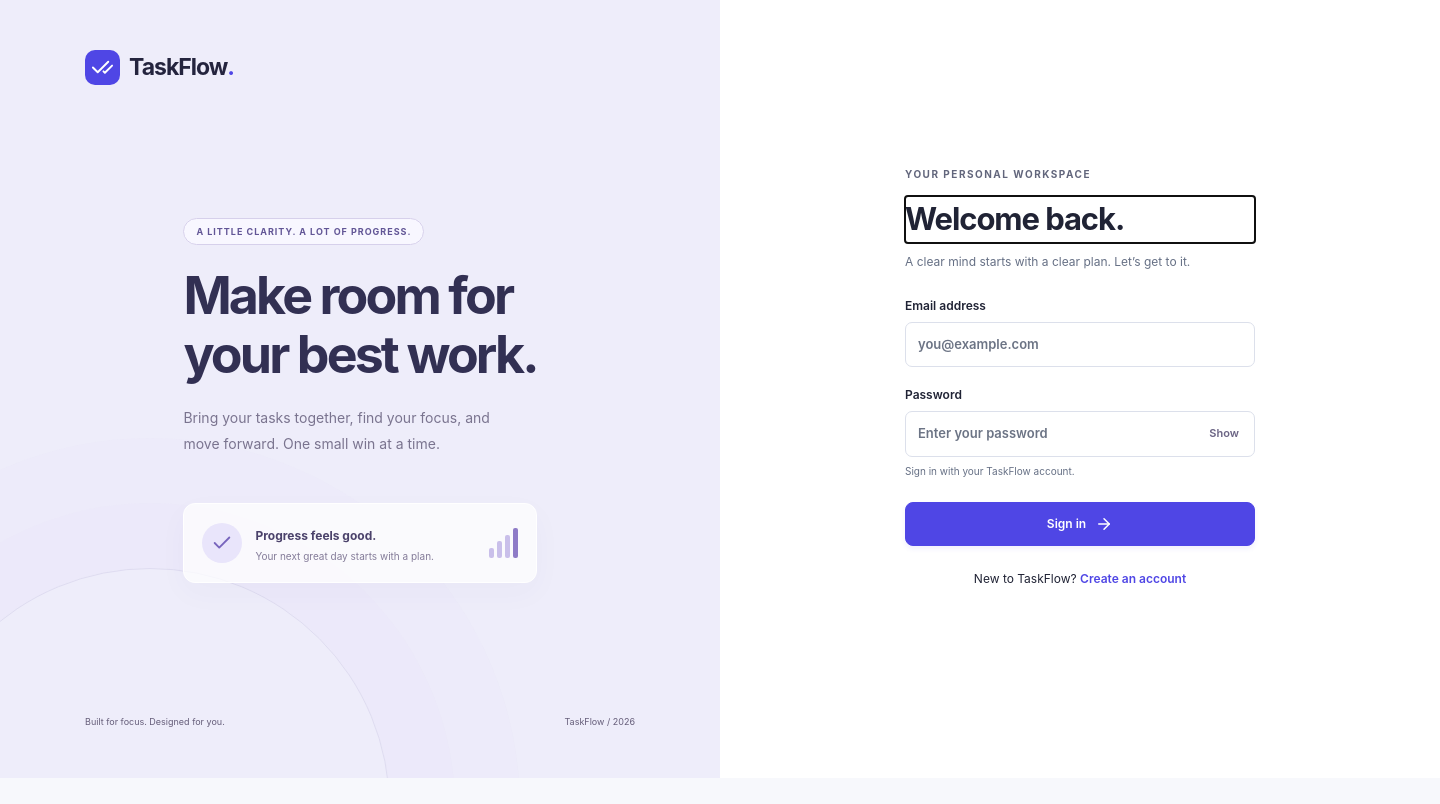
Test: preserves a task after failed deletion and allows a safe retry
Type "demo@taskflow.app" into the field labelled "Email address" at coordinates (1080, 345), box [905,322,1255,367]
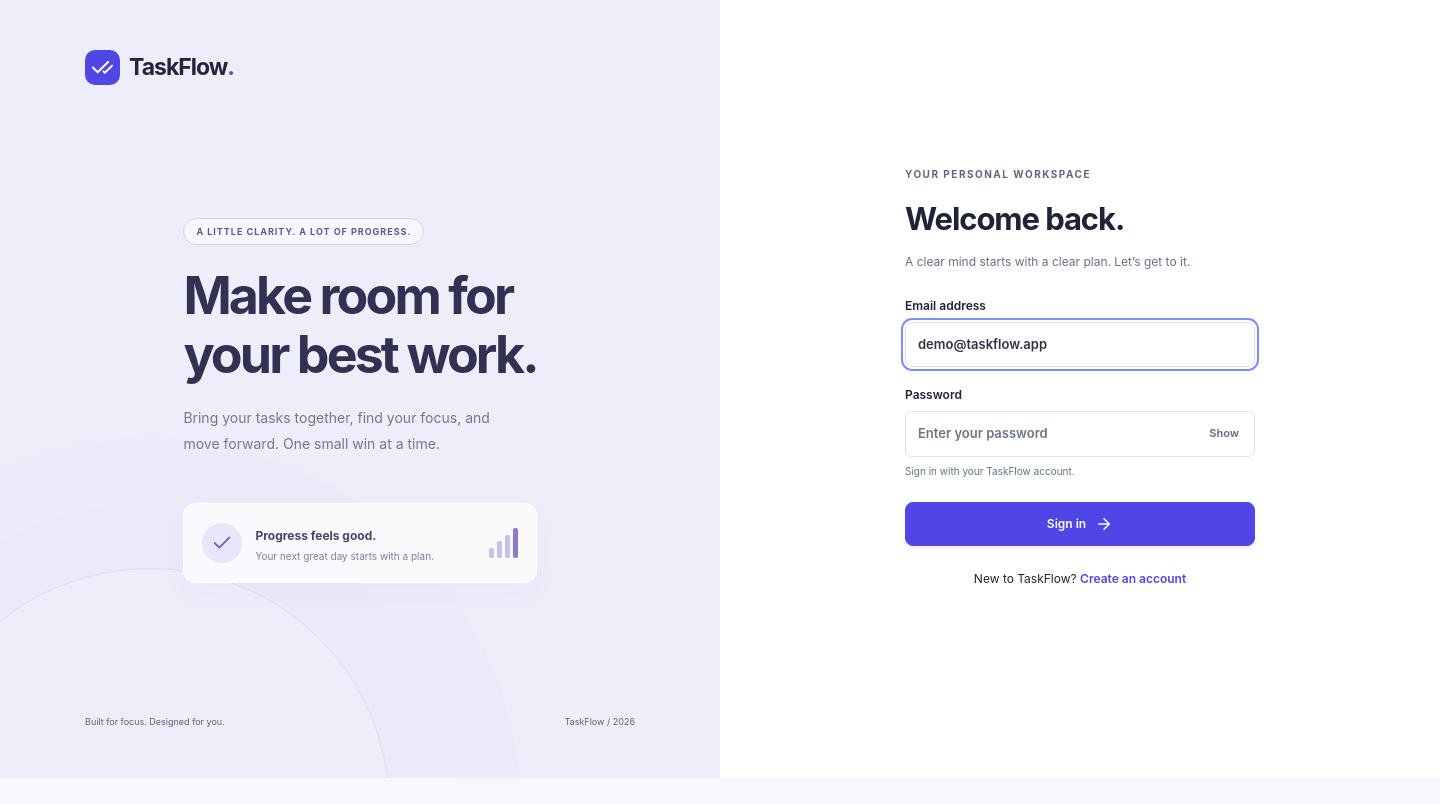
Type "TaskflowDemo!2026" into the password field labelled "Password" at coordinates (1080, 434), box [905,411,1255,457]
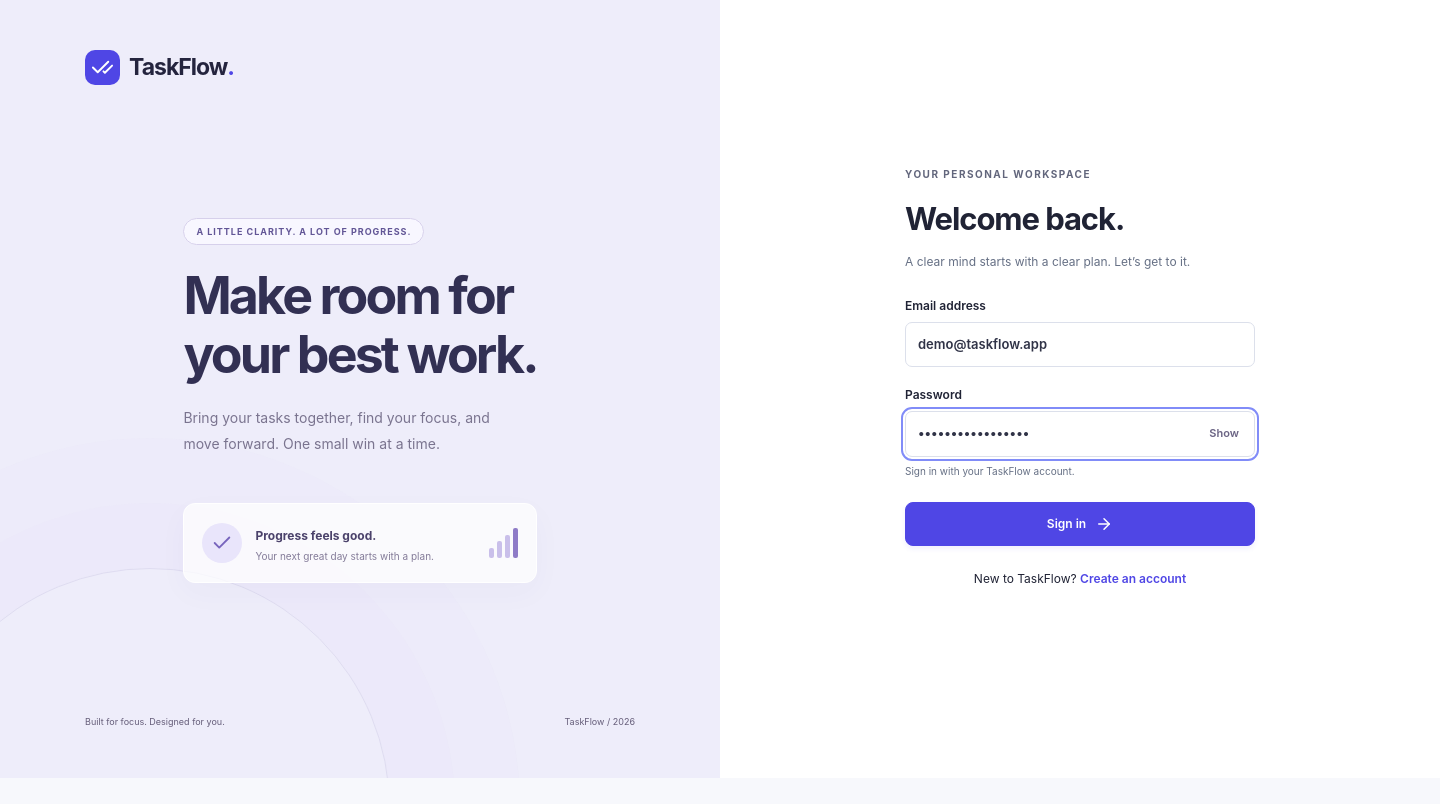
Click the button "Sign in" at coordinates (1080, 524), box [905,502,1255,546]
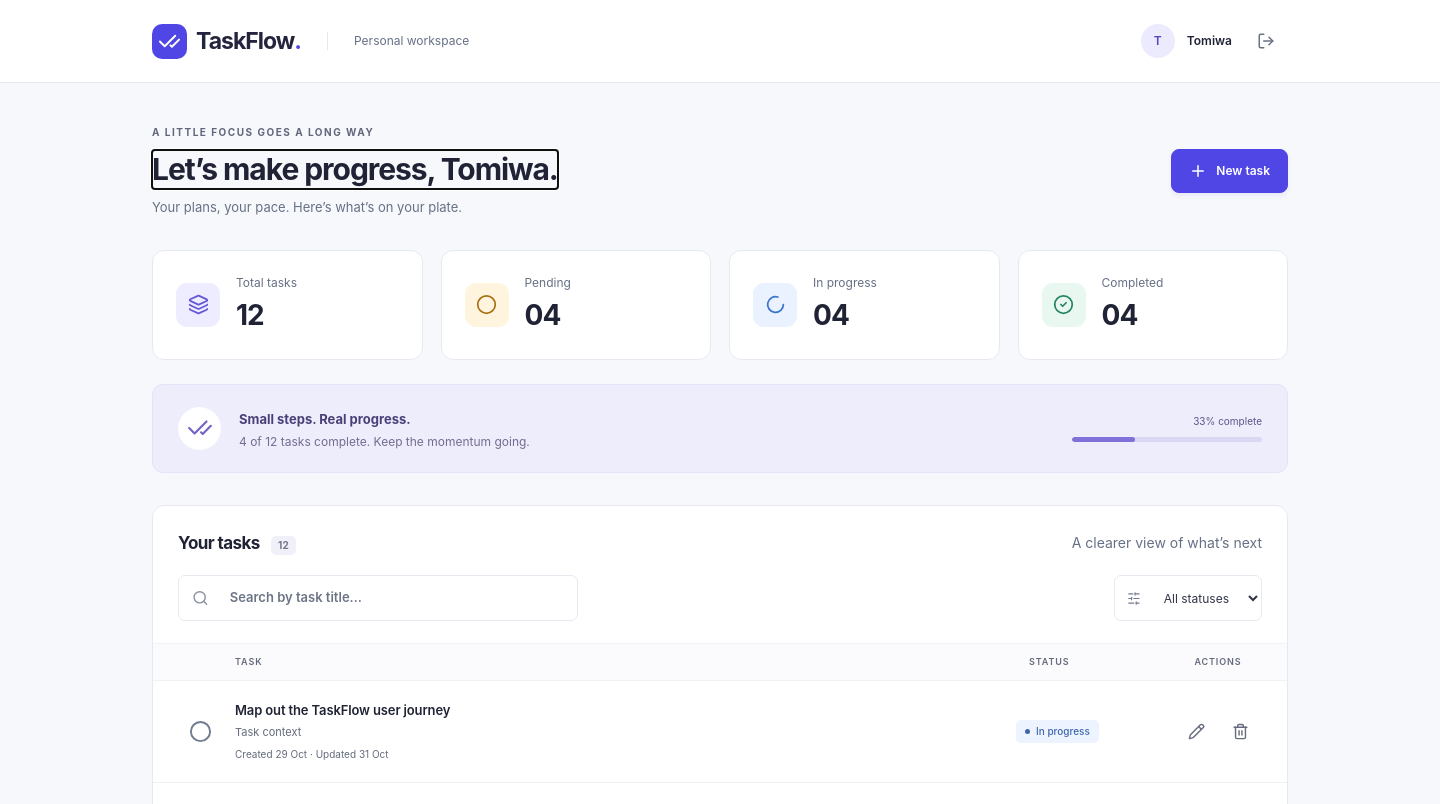
Check: the heading "Let’s make progress, Tomiwa." is shown, box [152,150,558,189]
Click the button named "Delete: Map out the TaskFlow user journey" at coordinates (1240, 731), box [1218,709,1262,753]
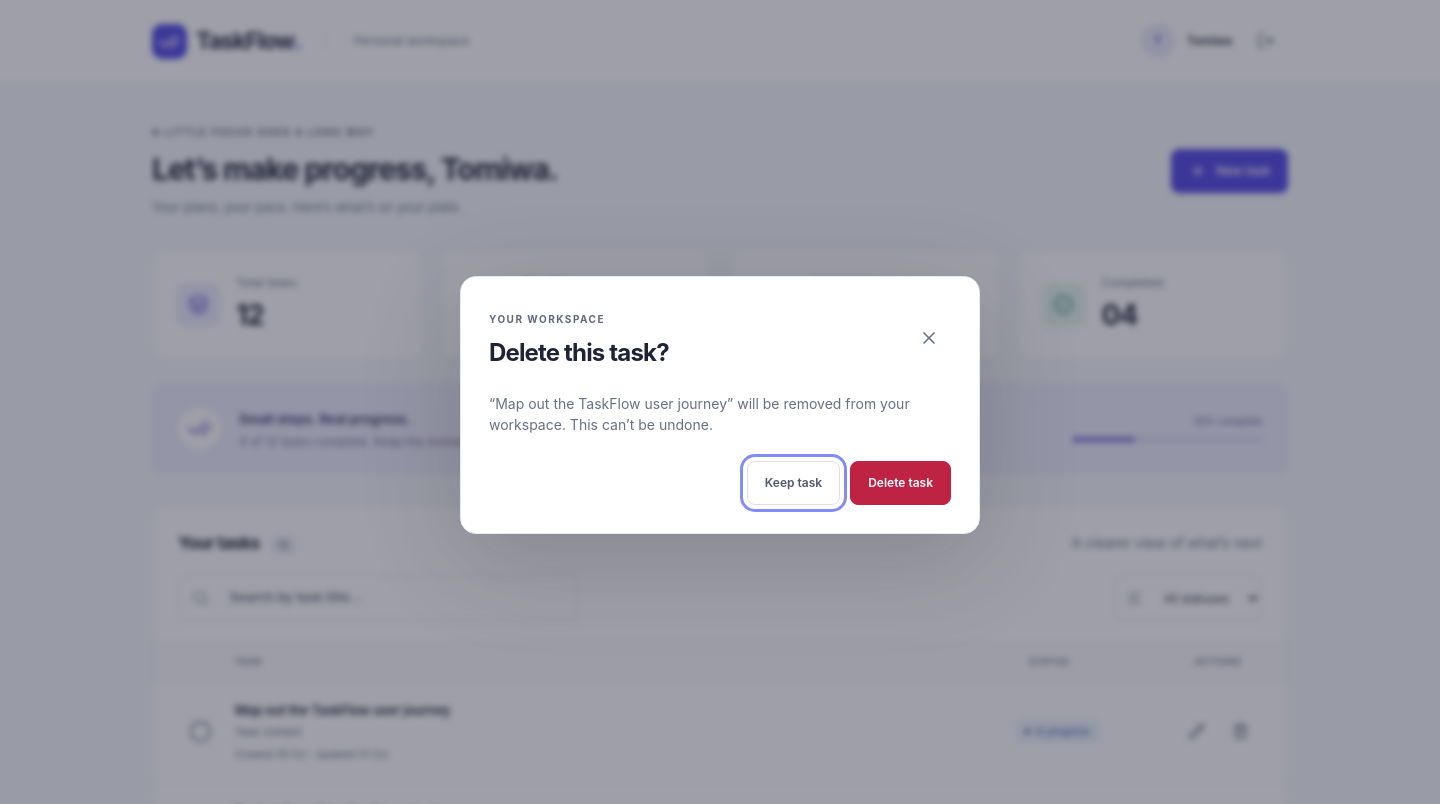
Click the button "Delete task" at coordinates (901, 483), box [850,461,951,505]
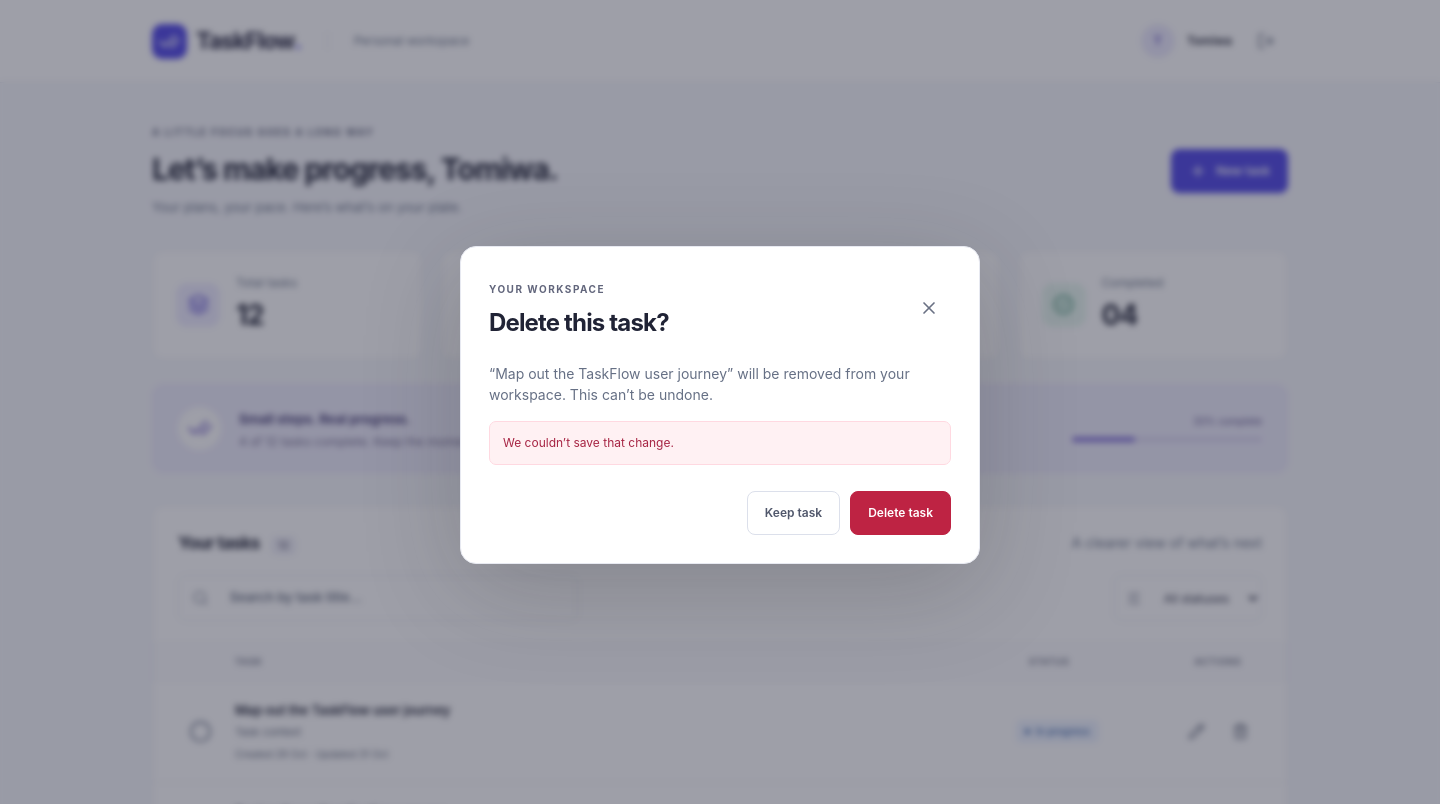
Check: the heading "Map out the TaskFlow user journey" is shown, box [235,702,450,718]
Check: the message shows "couldn’t save", box [503,435,674,450]
Click the button "Delete task" at coordinates (901, 513), box [850,491,951,535]
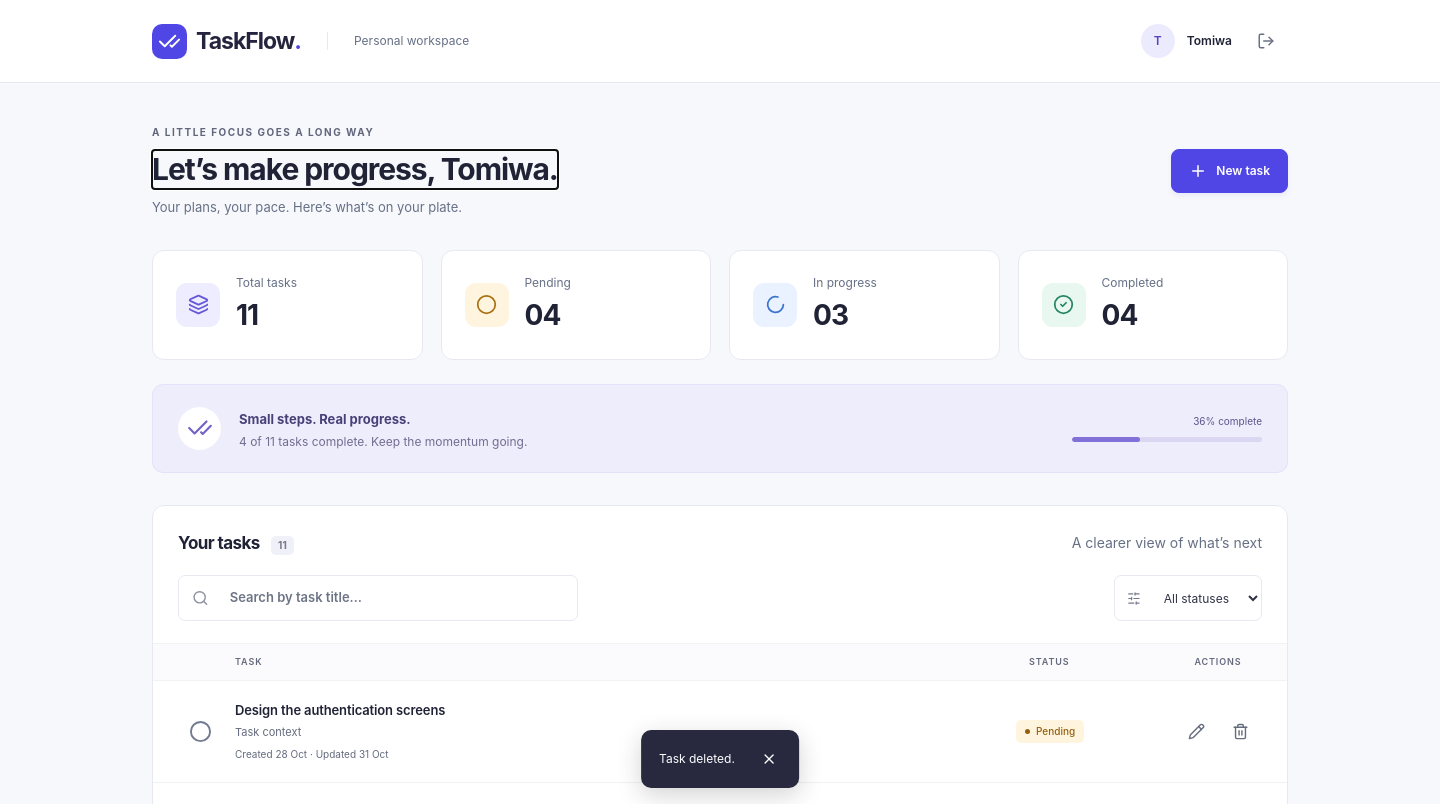
Check: the dialog is gone
Check: the heading "Map out the TaskFlow user journey" is gone
